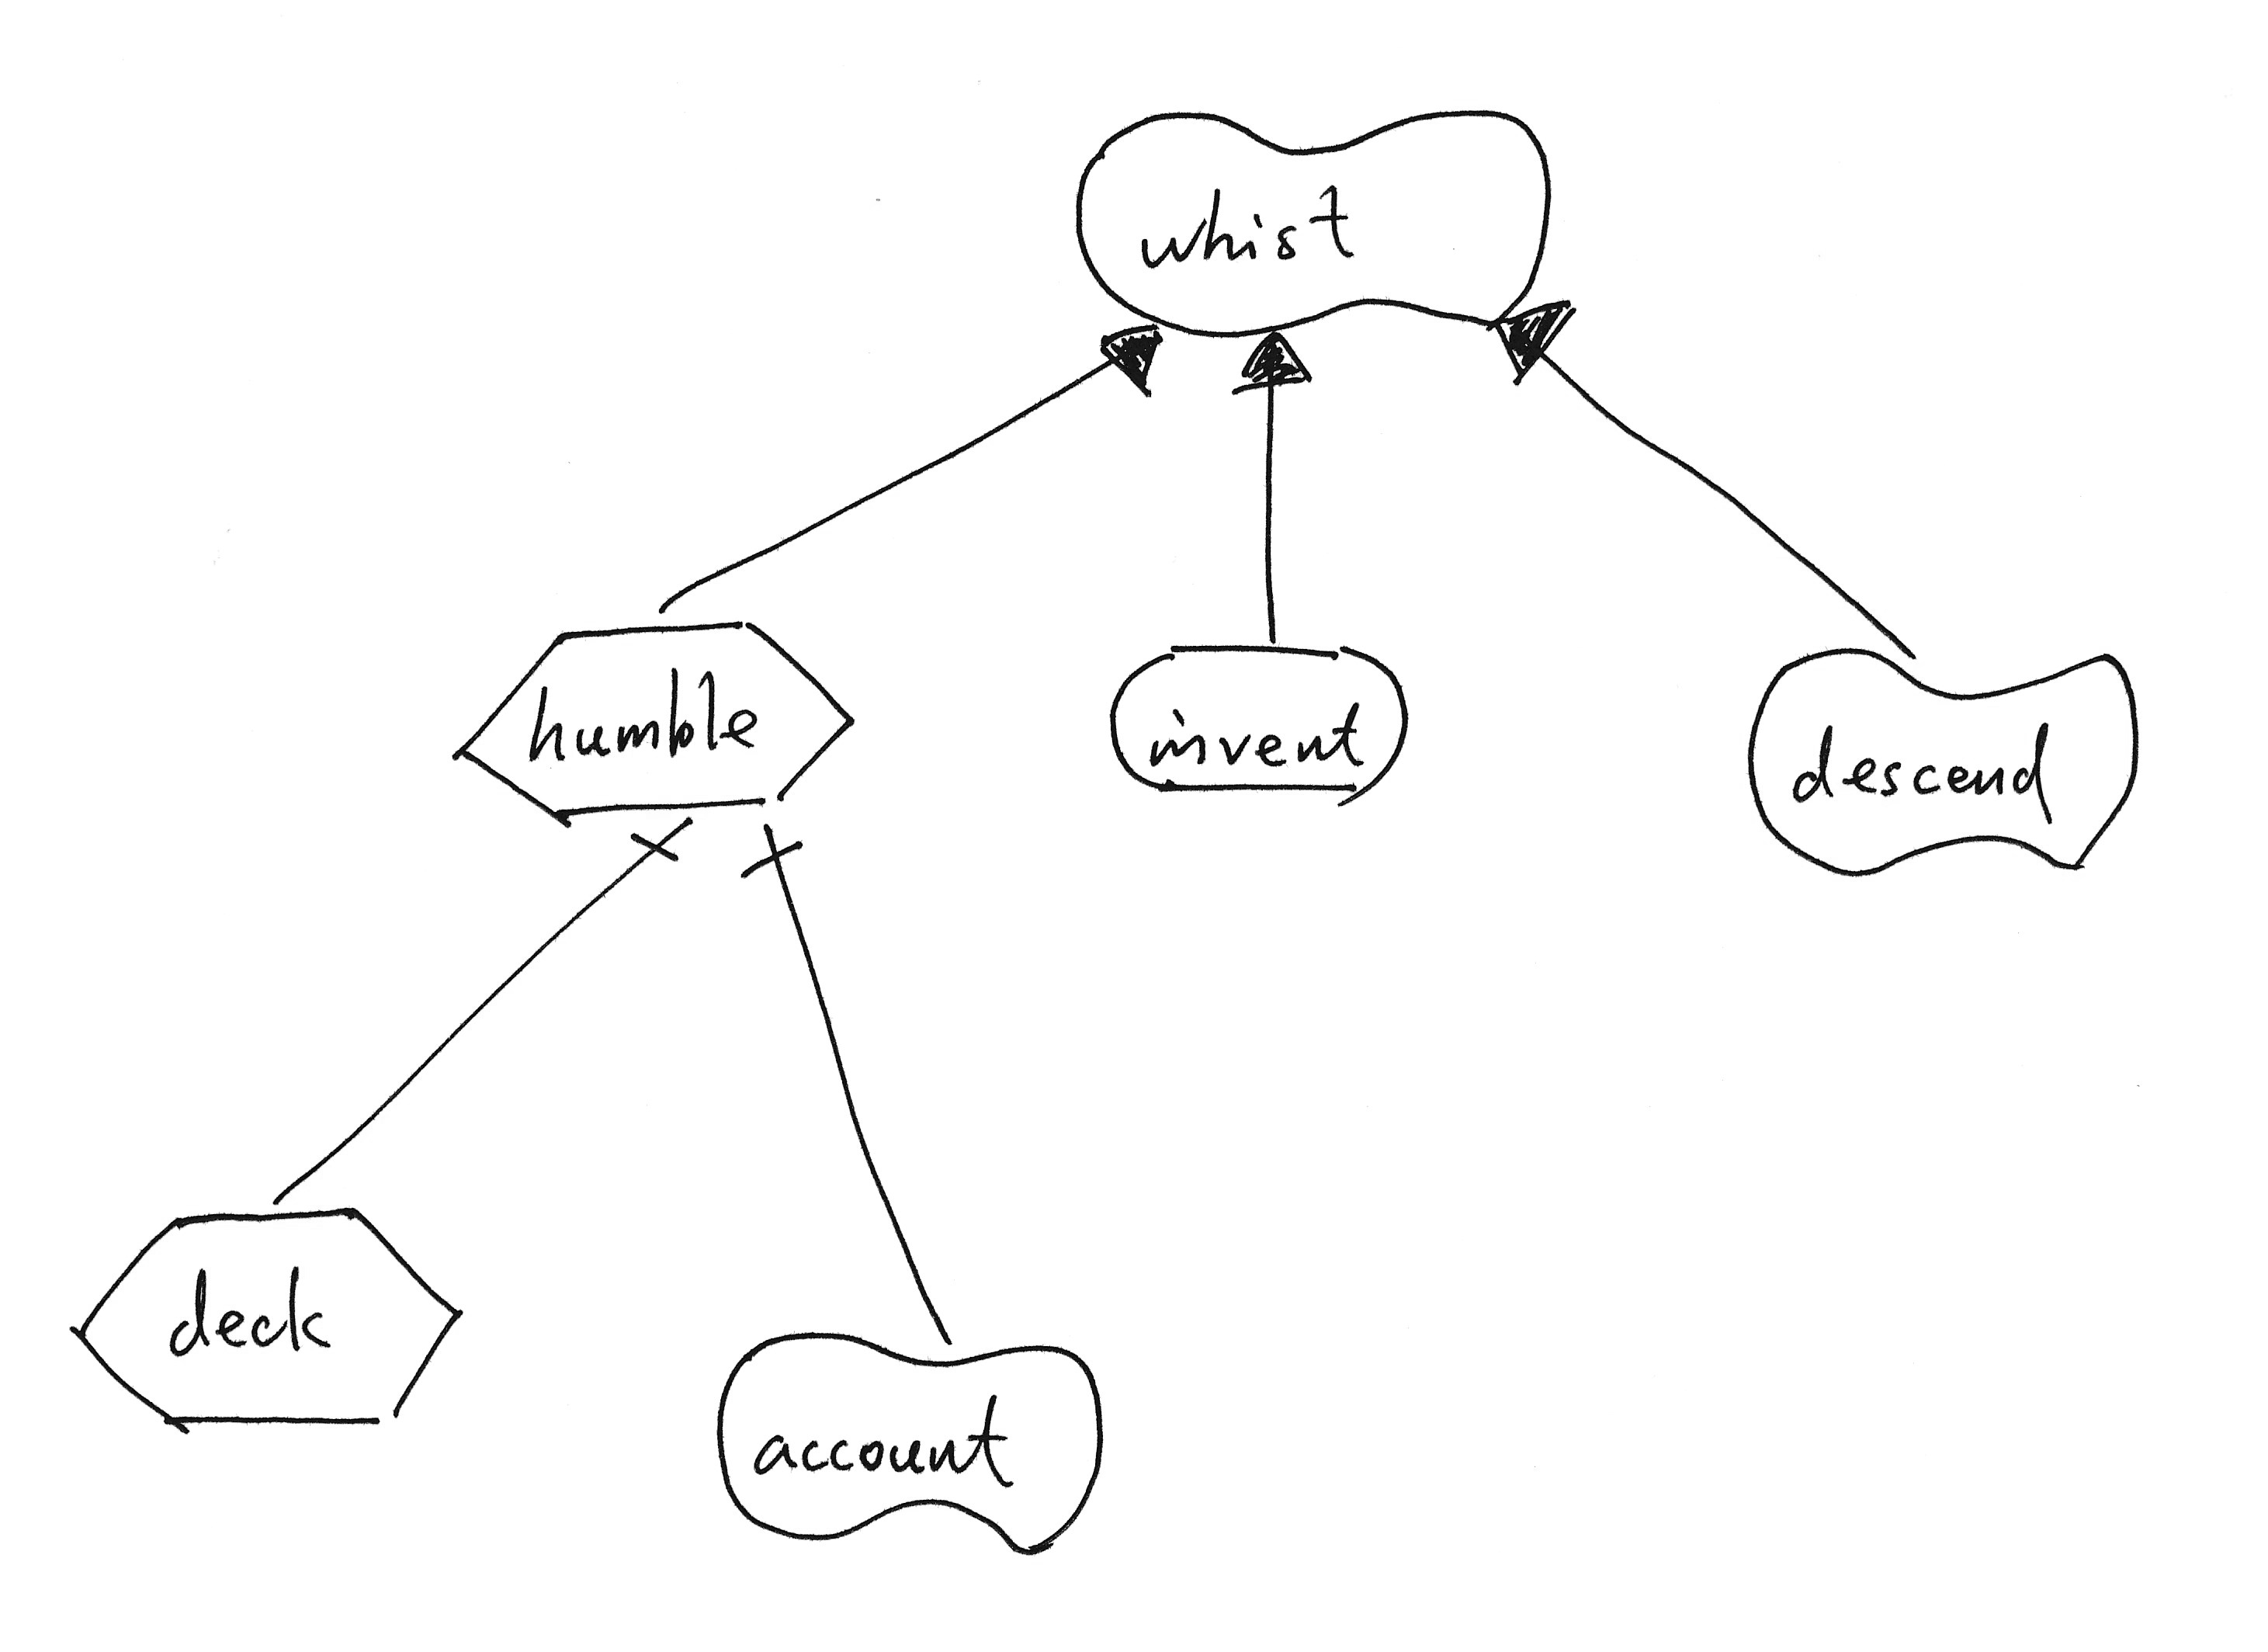and: (616, 807, 715, 881), (736, 808, 822, 891)
goal: (1097, 623, 1425, 814)
or: (1472, 291, 1597, 391), (1219, 317, 1328, 409), (1090, 308, 1178, 405)
quality: (1048, 86, 1579, 354), (697, 1305, 1134, 1569), (1724, 629, 2157, 891)
task: (60, 1192, 481, 1449), (431, 602, 866, 831)
